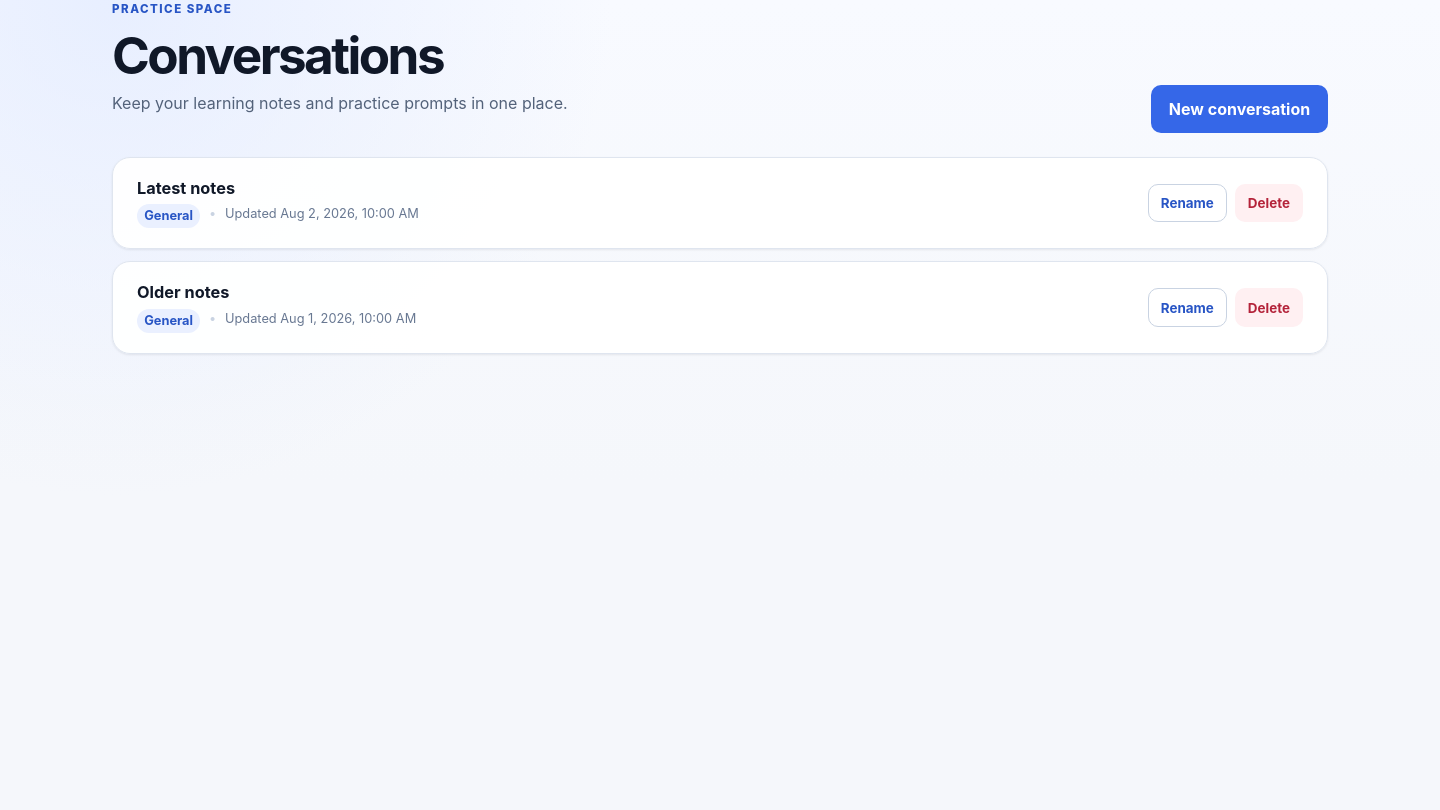
Test: ConversationList › sorts populated conversations newest first and supports rename/delete
Expected: the link "Latest notes" is shown, [137, 178, 235, 198]
Click the button "Rename" in the row of "Aug 2, 2026, 10:00 AM" at (1187, 203), box [1148, 184, 1227, 222]
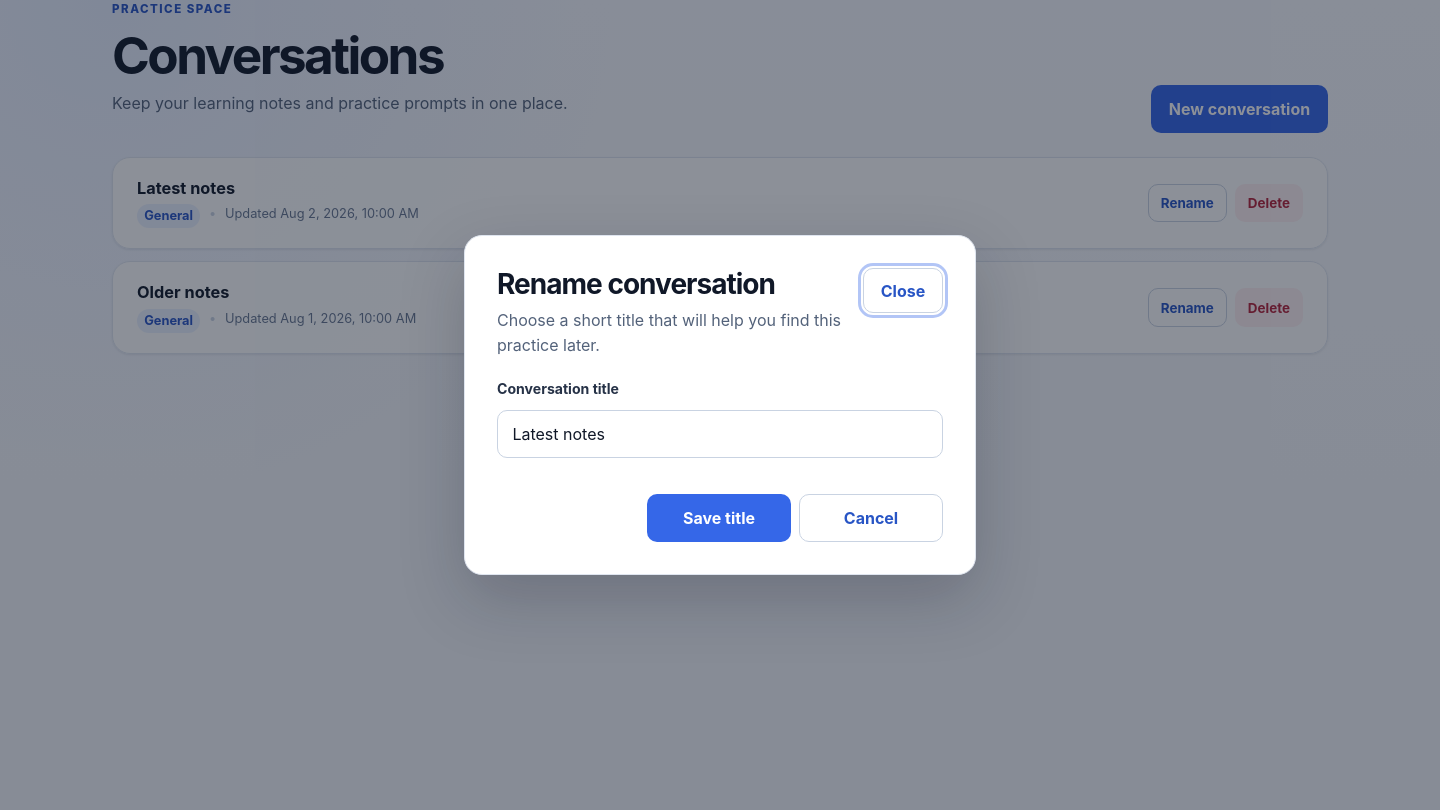
Replace the text in the field labelled "Conversation title" with "Renamed" at (720, 434), box [497, 410, 943, 458]
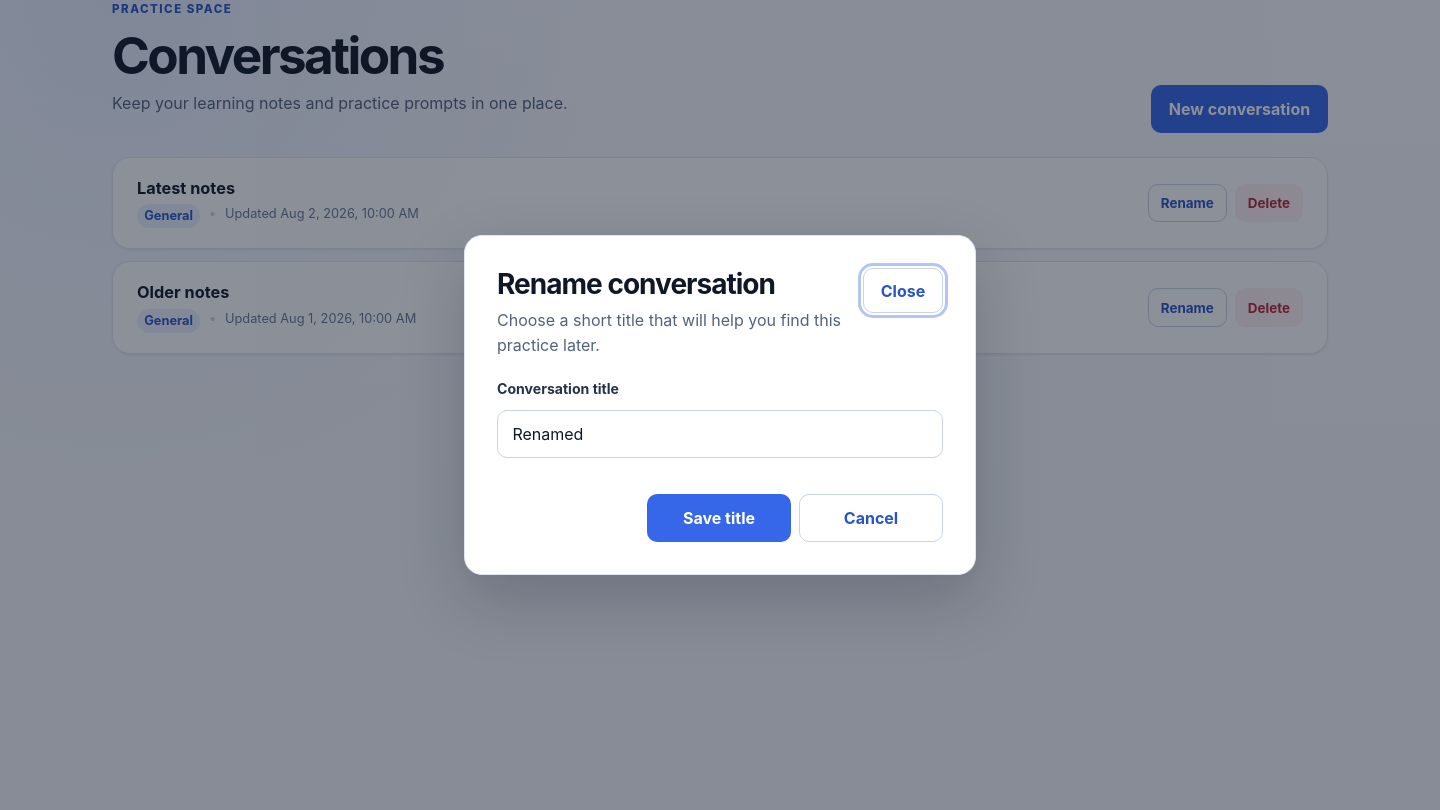
Click the button "Save title" at (719, 518), box [647, 494, 791, 542]
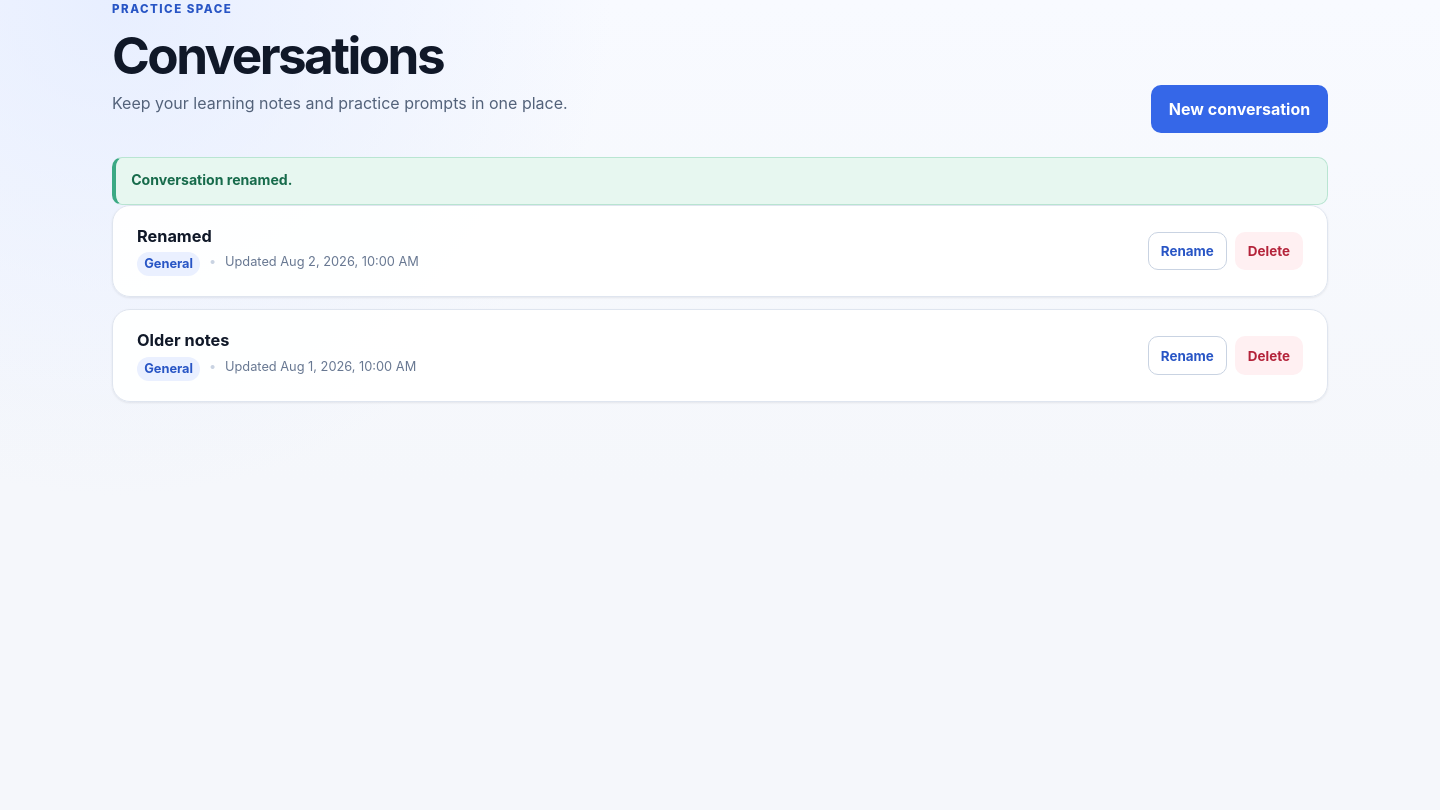
Expected: the link "Renamed" is shown, [137, 226, 212, 246]
Click the button "Delete" in the row of "Aug 2, 2026, 10:00 AM" at (1269, 251), box [1235, 232, 1303, 270]
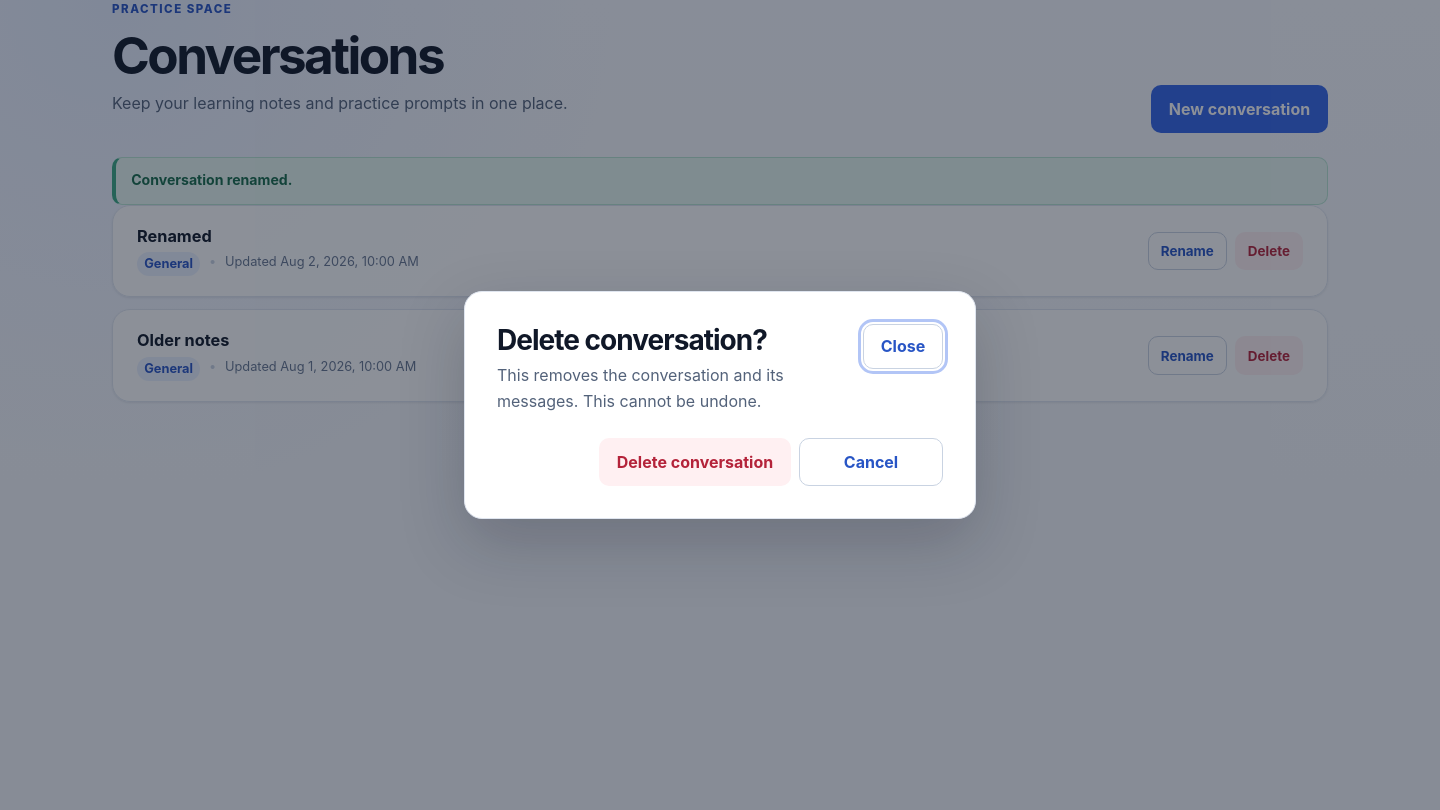
Click the button "Delete conversation" at (695, 462), box [599, 438, 791, 486]
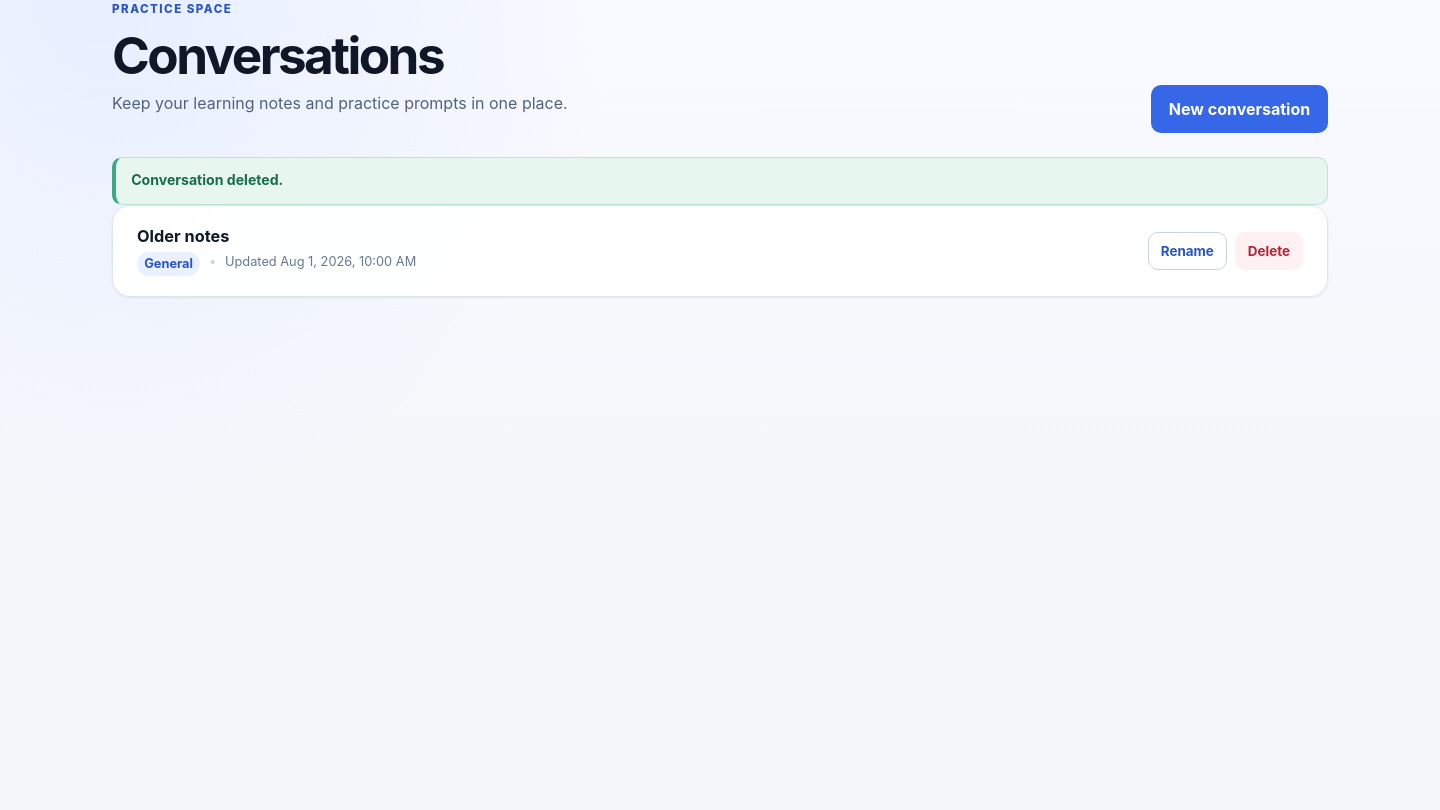
Expected: the text "renamed" is gone
